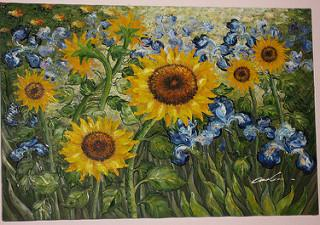sunflower: (129, 44, 216, 119), (58, 116, 137, 178), (9, 69, 56, 110), (222, 57, 260, 91), (253, 37, 288, 72)
